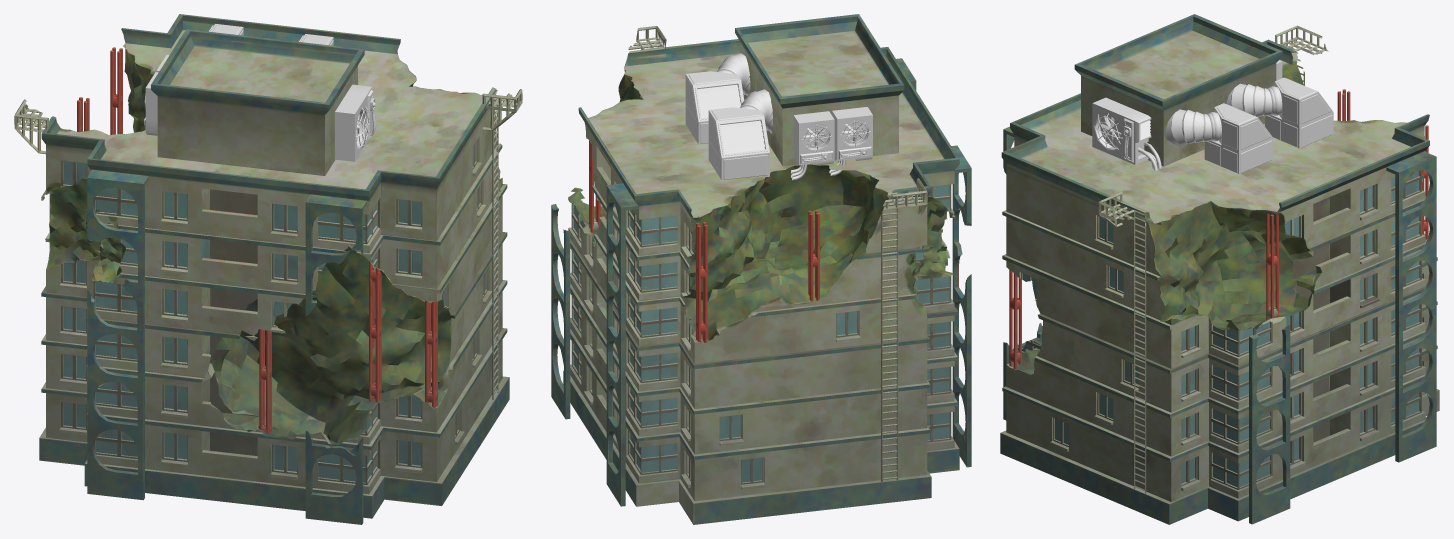
Rendered from immeuble 2 détruit+props.fbx.
3 renders of one model, left to right at view 1: azimuth 30°, elevation 25°; view 2: azimuth 150°, elevation 25°; view 3: azimuth 270°, elevation 25°, orthographic. The views are drawn at different scales.
Parts seen in each view (by area): view 1: Cube.112, Cube.121, Cube.116; view 2: Cube.112, BézierCurve.103, BézierCurve.102, Cube.115, Cube.116; view 3: Cube.112, BézierCurve.102, BézierCurve.103, Cube.121.
Part boxes in pixels (<box>): Cube.112: <box>14,14,522,524</box>; Cube.121: <box>335,84,375,161</box>; Cube.116: <box>144,72,158,135</box>; Cube.112: <box>551,14,971,524</box>; BézierCurve.103: <box>708,89,773,180</box>; BézierCurve.102: <box>685,53,750,144</box>; Cube.115: <box>791,111,834,180</box>; Cube.116: <box>829,107,872,175</box>; Cube.112: <box>1000,14,1439,524</box>; BézierCurve.102: <box>1165,103,1273,173</box>; BézierCurve.103: <box>1226,77,1333,148</box>; Cube.121: <box>1092,97,1161,170</box>.
Bounding box in the file's own units: 10940 × 9583 × 10673.
